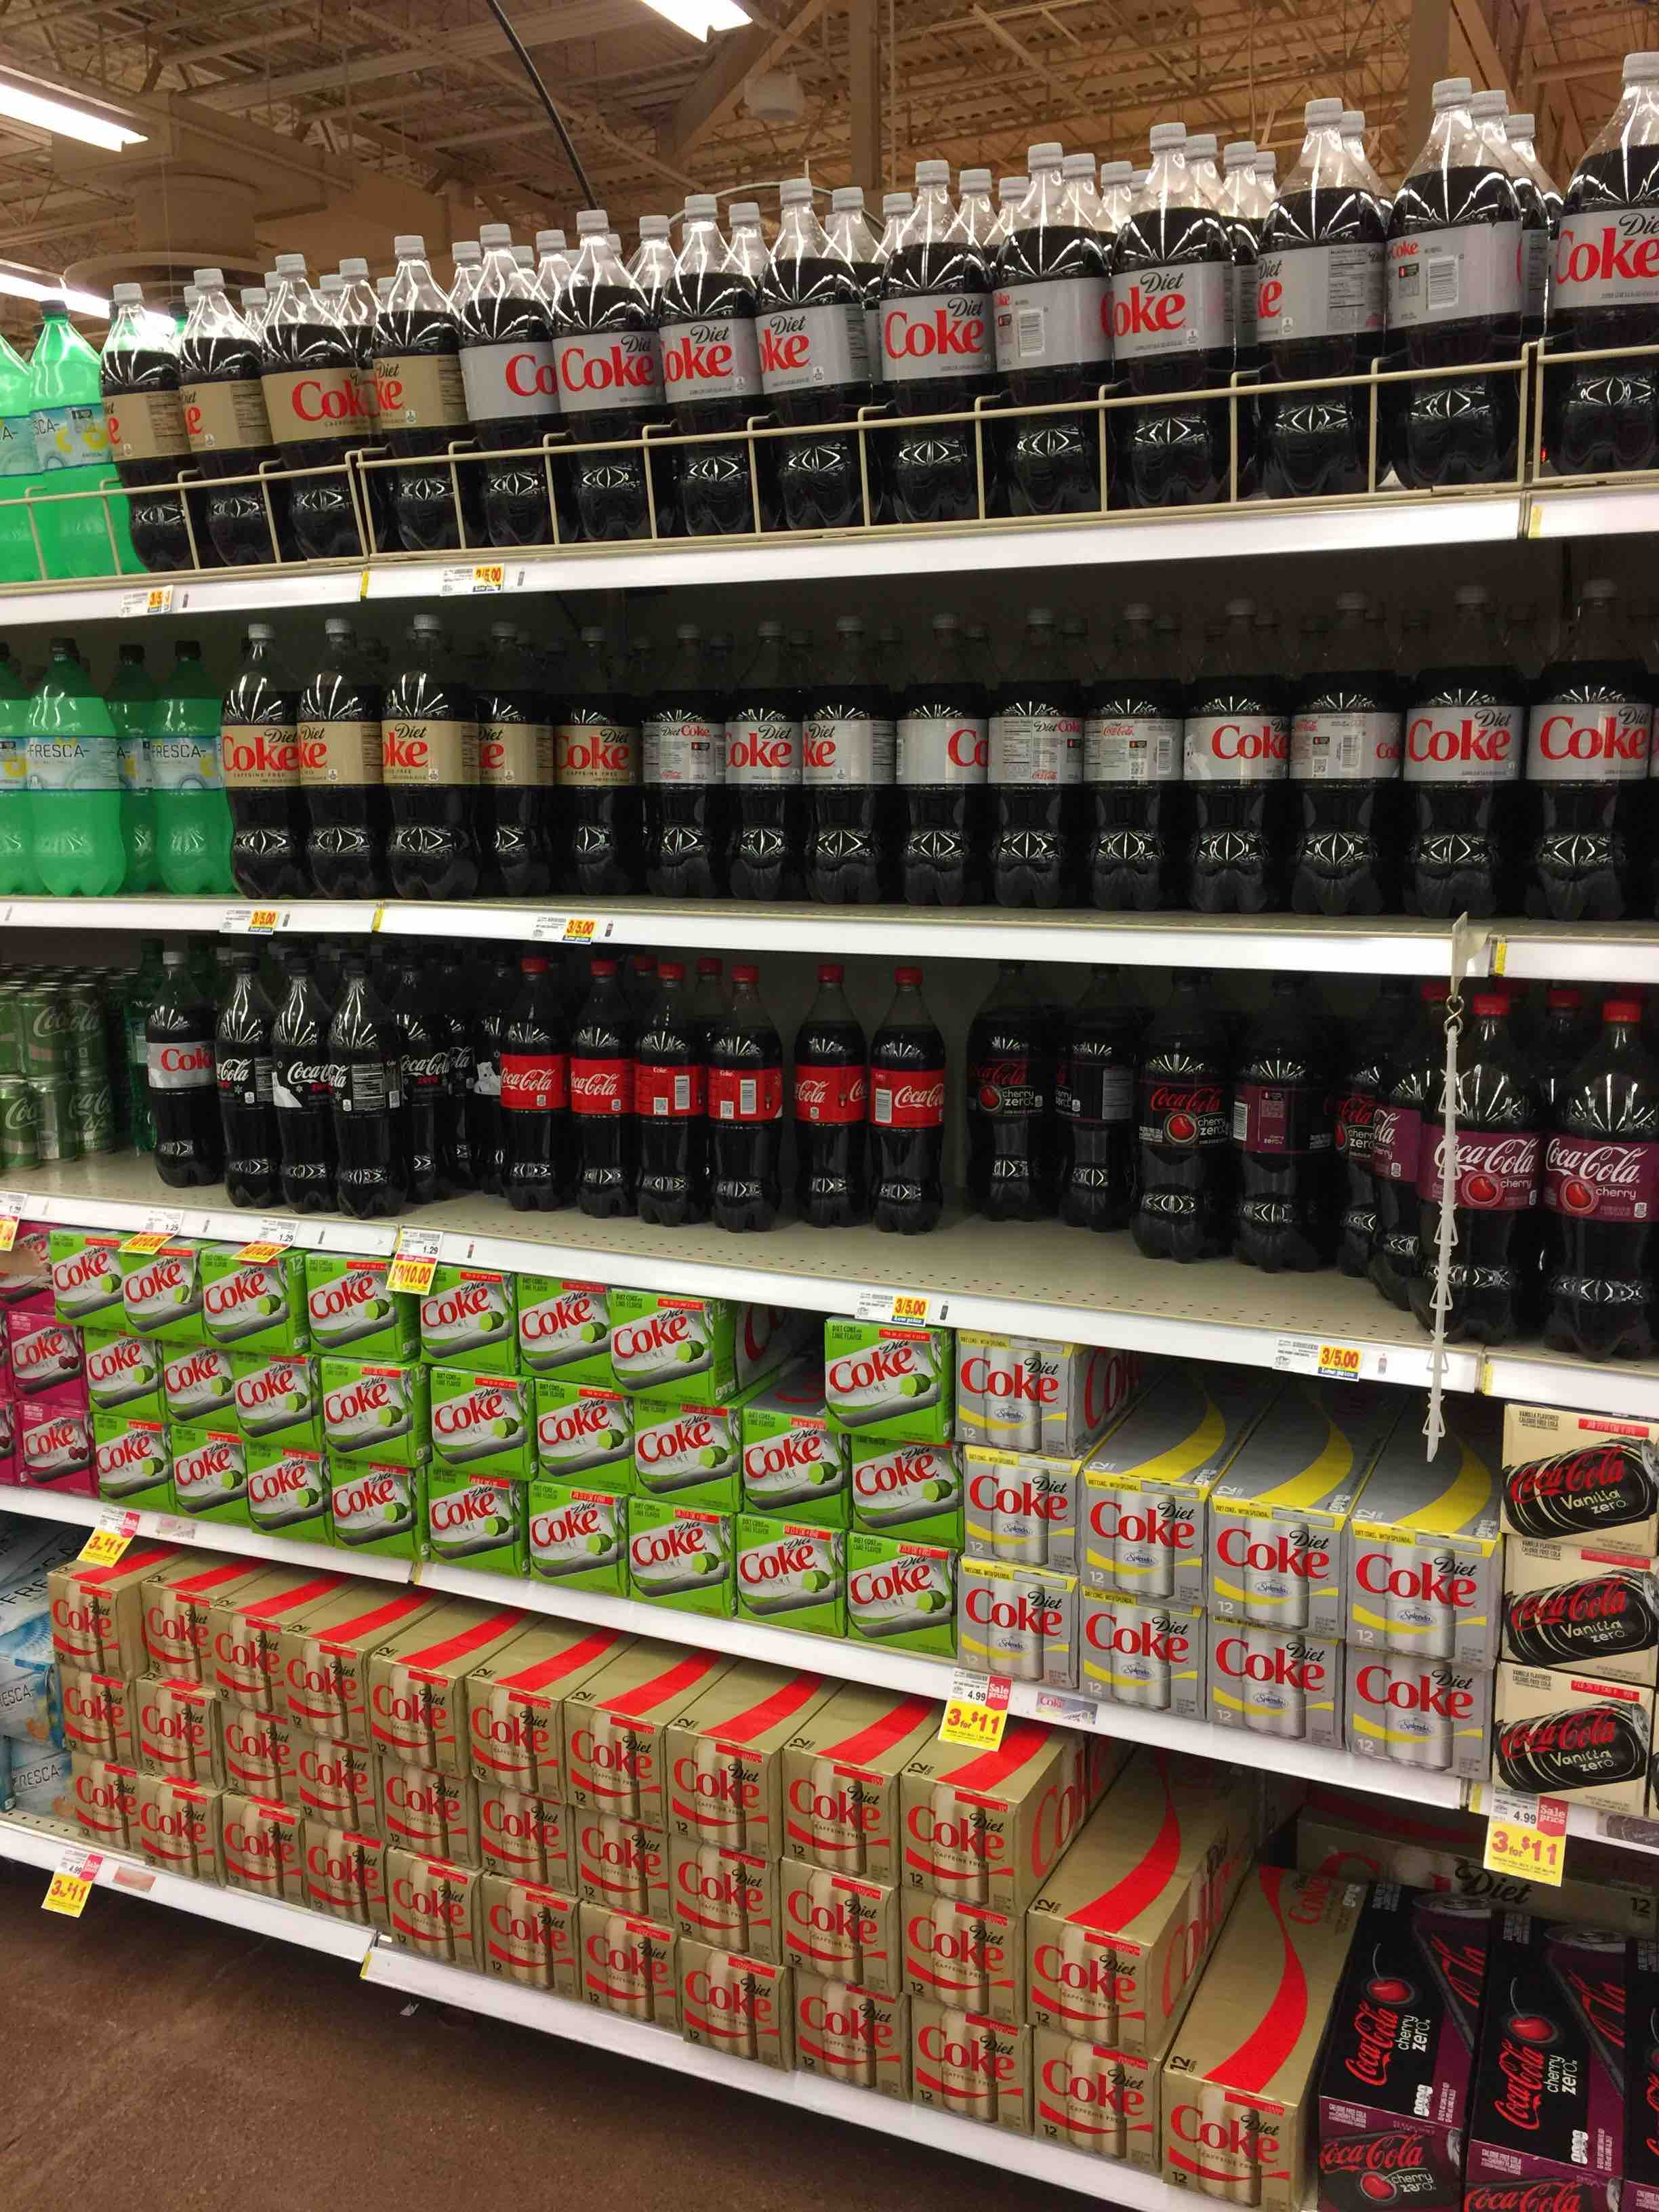Misplacement: (554, 604, 1638, 949), (1073, 1357, 1497, 1789), (495, 951, 767, 1282), (1134, 974, 1323, 1334), (781, 949, 948, 1298), (955, 968, 1126, 1301), (17, 939, 148, 1198)
